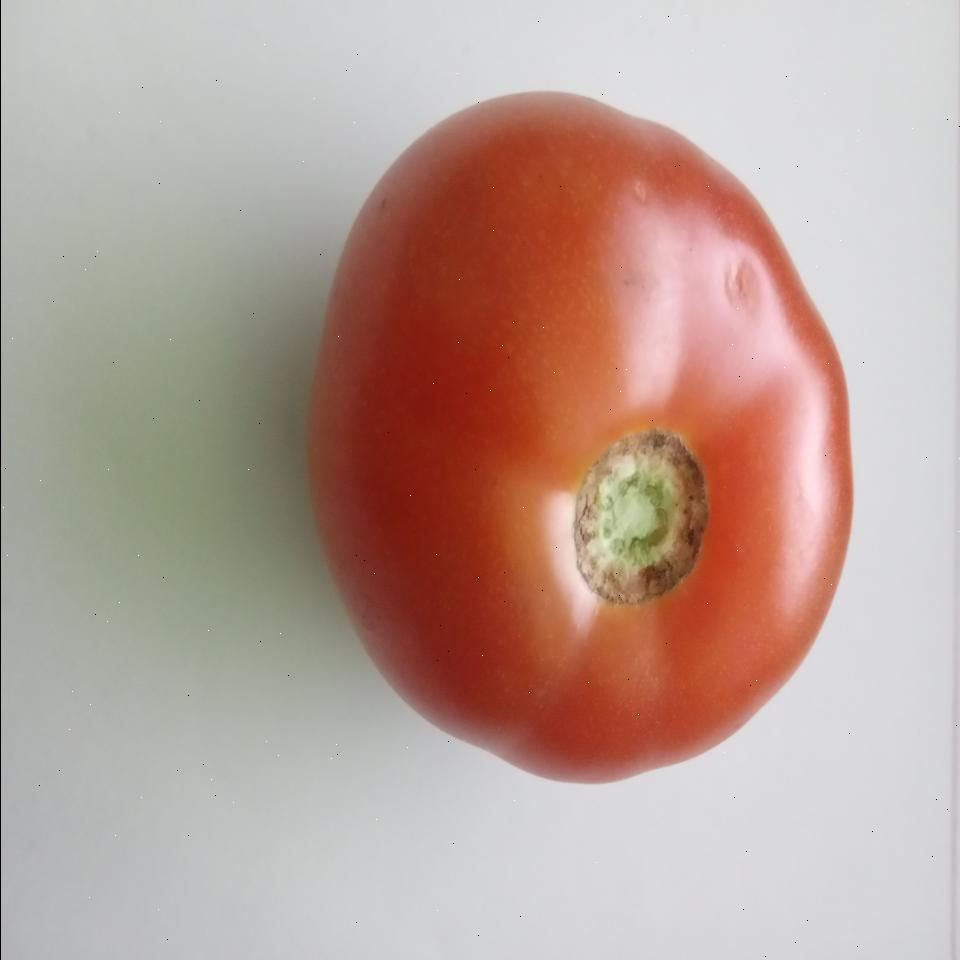Healthy: (304, 83, 855, 787)
